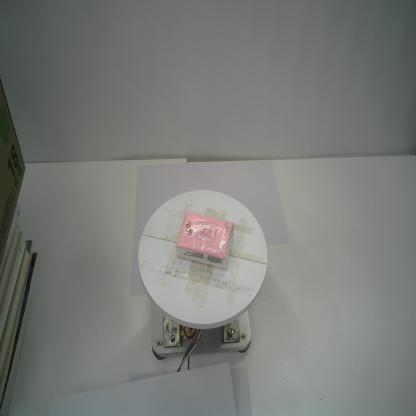Tissue: (175, 207, 236, 270)
